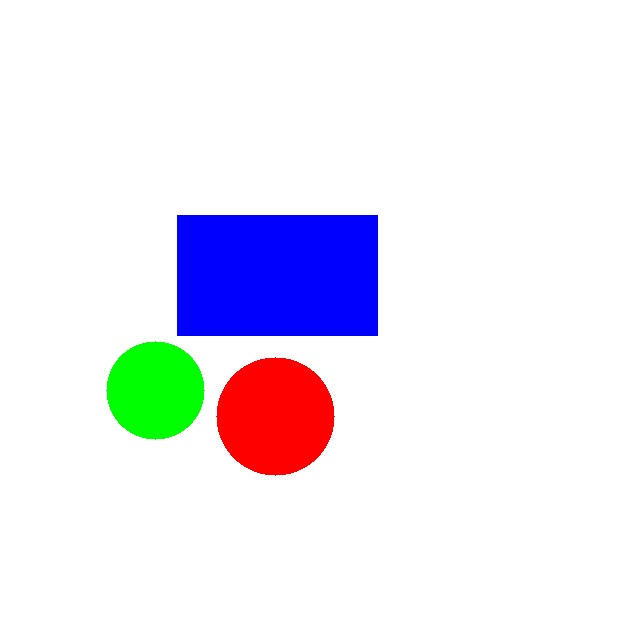cartao: (177, 215, 377, 335)
rosca_externa: (106, 341, 204, 439)
rosca_interna: (216, 357, 334, 475)
